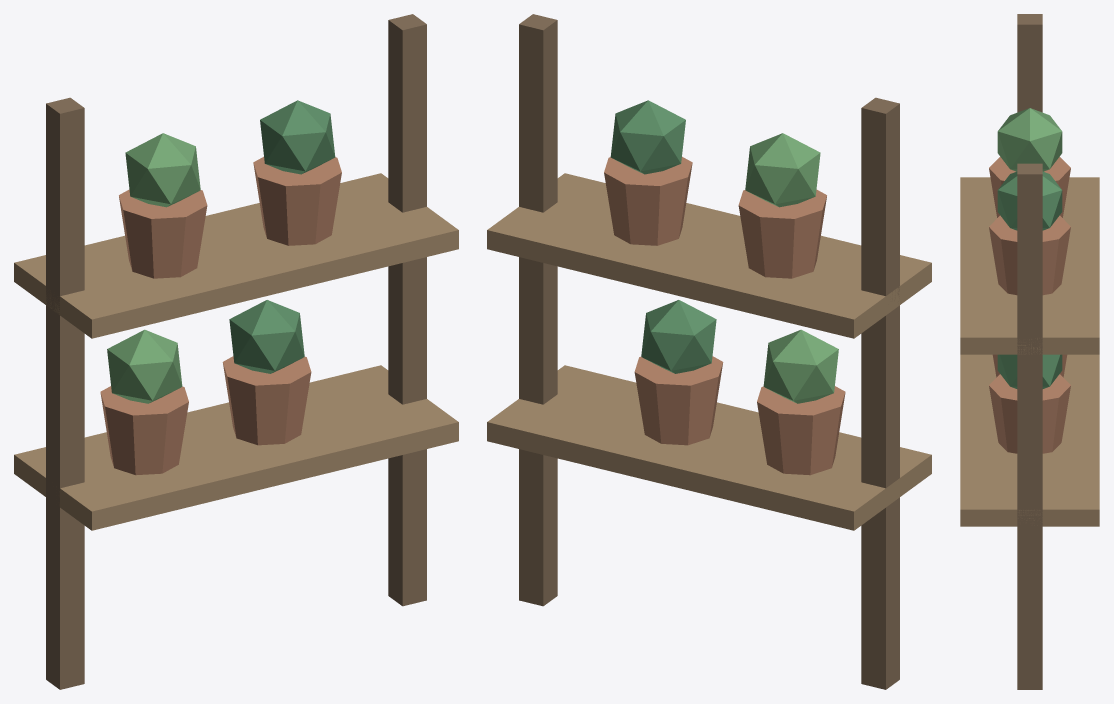
File: planta_horta2.glb
3 views of the same model, side by side, from view 1: azimuth 30°, elevation 25°; view 2: azimuth 150°, elevation 25°; view 3: azimuth 270°, elevation 25° (orthographic). The views are drawn at different scales.
Parts seen in each view (by area): view 1: PLANTA_HORTA2_v01; view 2: PLANTA_HORTA2_v01; view 3: PLANTA_HORTA2_v01.
Part boxes in pixels (bbox=[...]): PLANTA_HORTA2_v01: bbox=[14, 14, 458, 689]; PLANTA_HORTA2_v01: bbox=[487, 14, 931, 689]; PLANTA_HORTA2_v01: bbox=[960, 14, 1099, 689].
Bounding box in the file's own units: 0.6 × 0.9 × 0.22.
